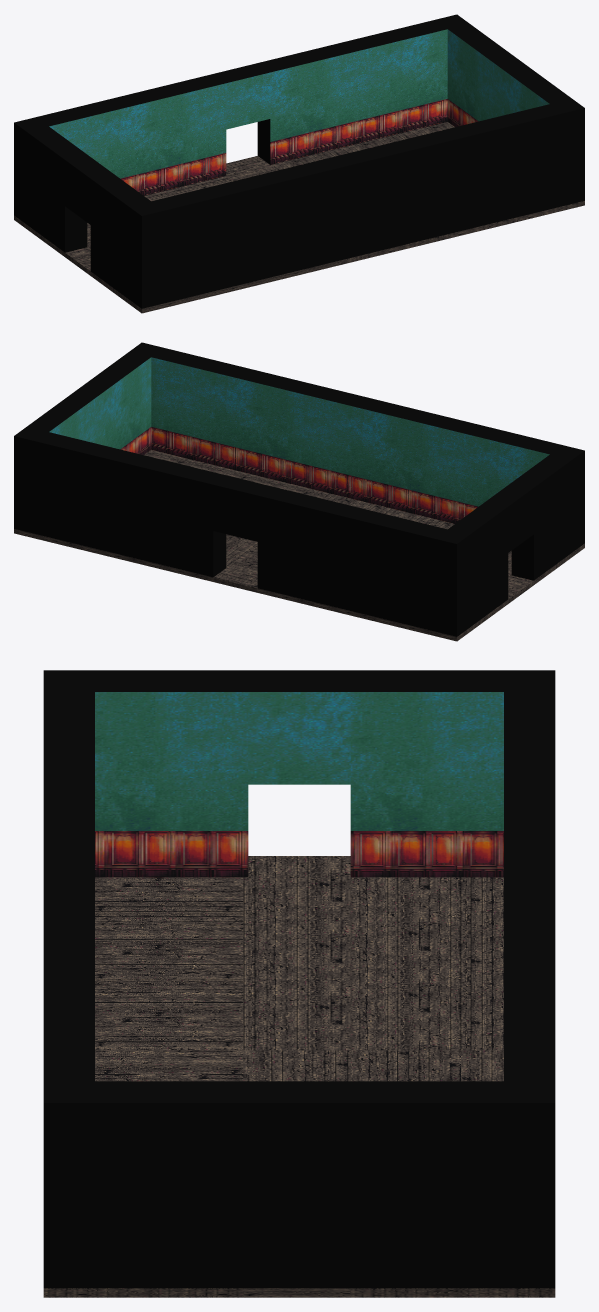
The model's file is ROOM_1.fbx.
3 views of the same model, one above another, from view 1: azimuth 30°, elevation 25°; view 2: azimuth 150°, elevation 25°; view 3: azimuth 270°, elevation 25° (orthographic). The views are drawn at different scales.
Parts seen in each view (by area): view 1: WALL_01, FLOOR_01; view 2: WALL_01, FLOOR_01; view 3: WALL_01, FLOOR_01.
Boxes of the visible parts, x1,y1,x2,y2 form: WALL_01: [14, 14, 584, 308]; FLOOR_01: [14, 122, 584, 313]; WALL_01: [14, 342, 584, 636]; FLOOR_01: [14, 450, 584, 641]; WALL_01: [43, 670, 555, 1288]; FLOOR_01: [43, 856, 555, 1297].
Bounding box in the file's own units: 4000 × 840 × 2000.
